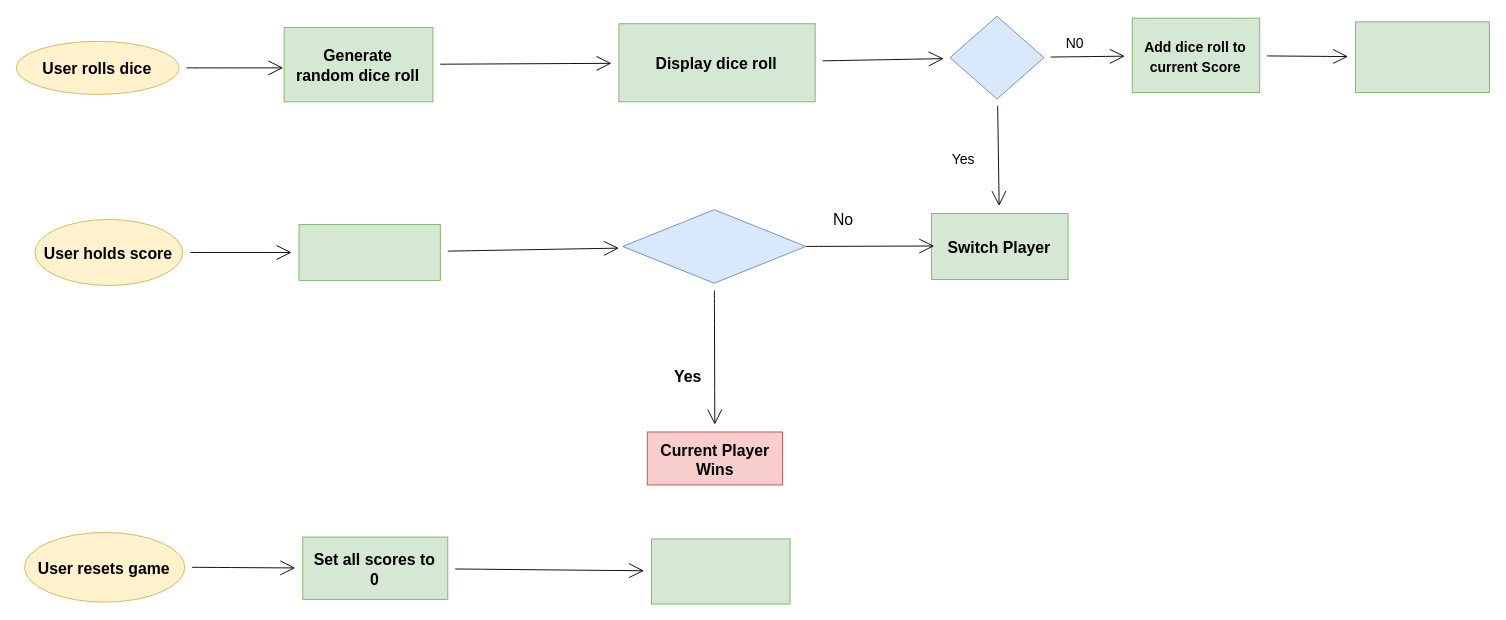
Some shapes in this 1506 by 620 pixel diagram are drawn without their labels. Here are the shapes that lost their labels. From the top down, the box of each, then its label:
(949, 15, 1044, 99): Is it a 1?
(1355, 21, 1489, 93): Display new score
(298, 224, 440, 280): Add current score to total core
(622, 209, 806, 283): Score >=100
(651, 538, 790, 604): Set Player 1 as starting Player
